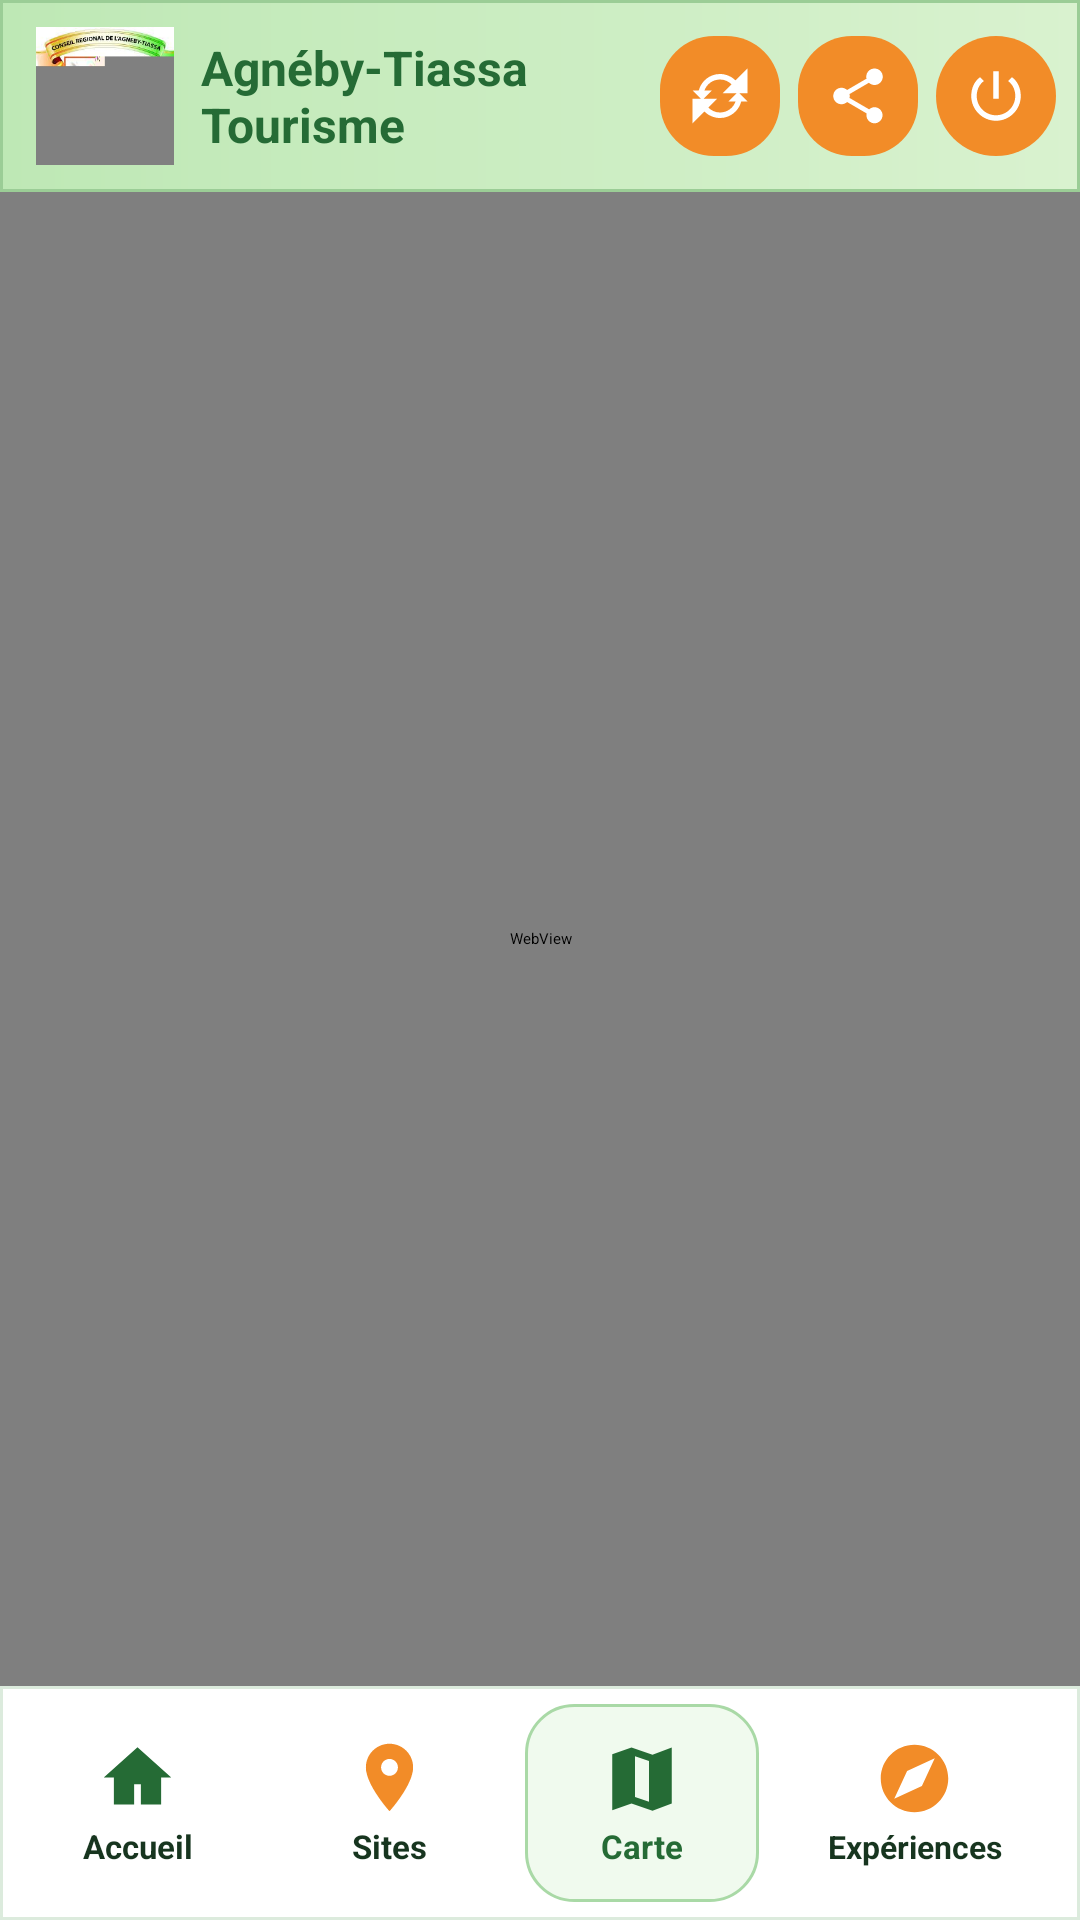

Point at icon controls on the screen. Image size 1080 x 1920, points as [x,y].
Actualiser: [720,96]
Partager: [858,96]
Quitter l’application: [996,96]
